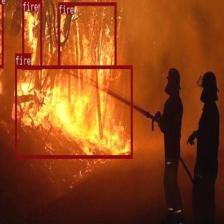fire: (15, 65, 132, 158), (58, 2, 116, 68), (22, 0, 42, 69), (0, 0, 3, 67)
